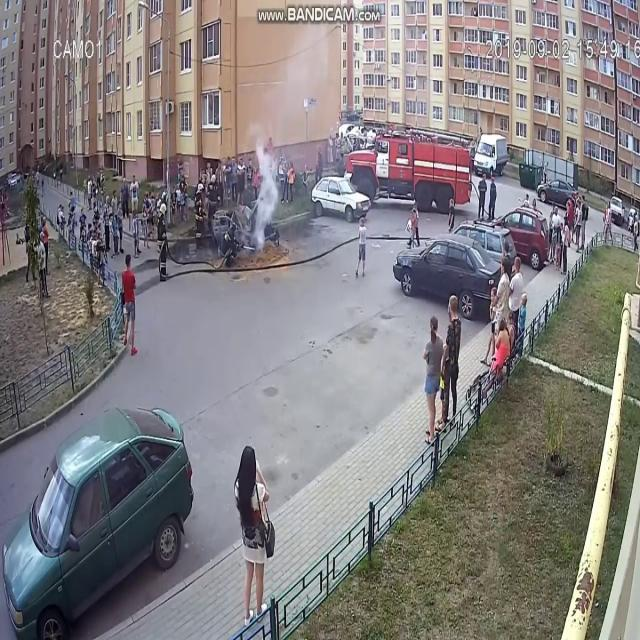Smoke: (250, 112, 282, 249)
